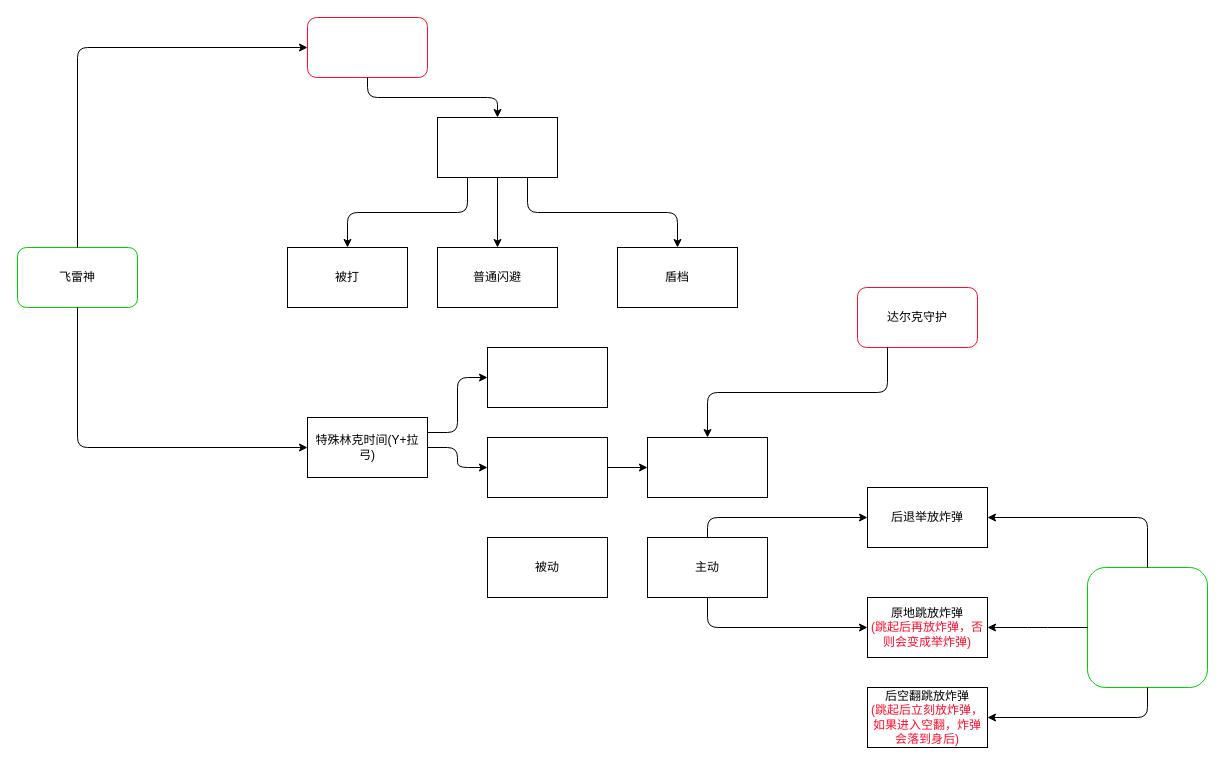
This 1225x765 diagram has some shape labels left out. The shapes that lost their labels are listed below. From the top down, each one's centre as x and y in pixels, then its label:
At pixel 367 47: "伤害标记".
At pixel 497 147: "普通伤害标记".
At pixel 547 377: "自然高低差".
At pixel 547 467: "盾档重置".
At pixel 707 467: "完美盾档重置".
At pixel 1147 627: "盾反炸弹 注视敌人时可以近距离起爆并盾反，不然要离开一段距离再盾反".
